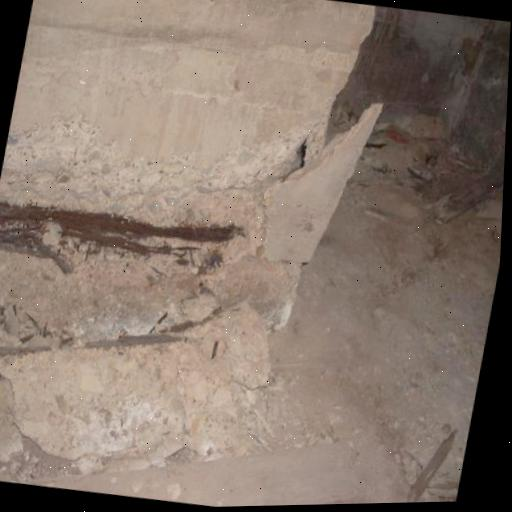exposed_rebar: (0, 202, 243, 274), (83, 307, 223, 350), (406, 430, 456, 502), (197, 249, 224, 275), (0, 346, 51, 357), (211, 341, 218, 359), (157, 312, 167, 324)
